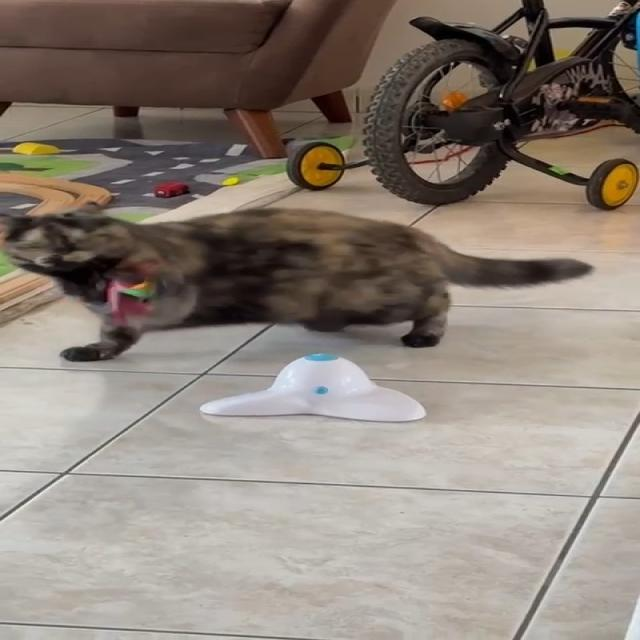authorized: (0, 205, 595, 362)
